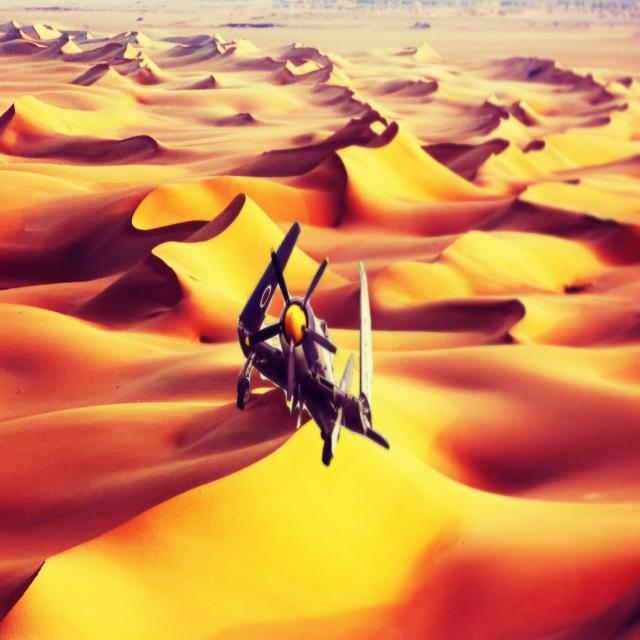airplane: (235, 220, 390, 466)
